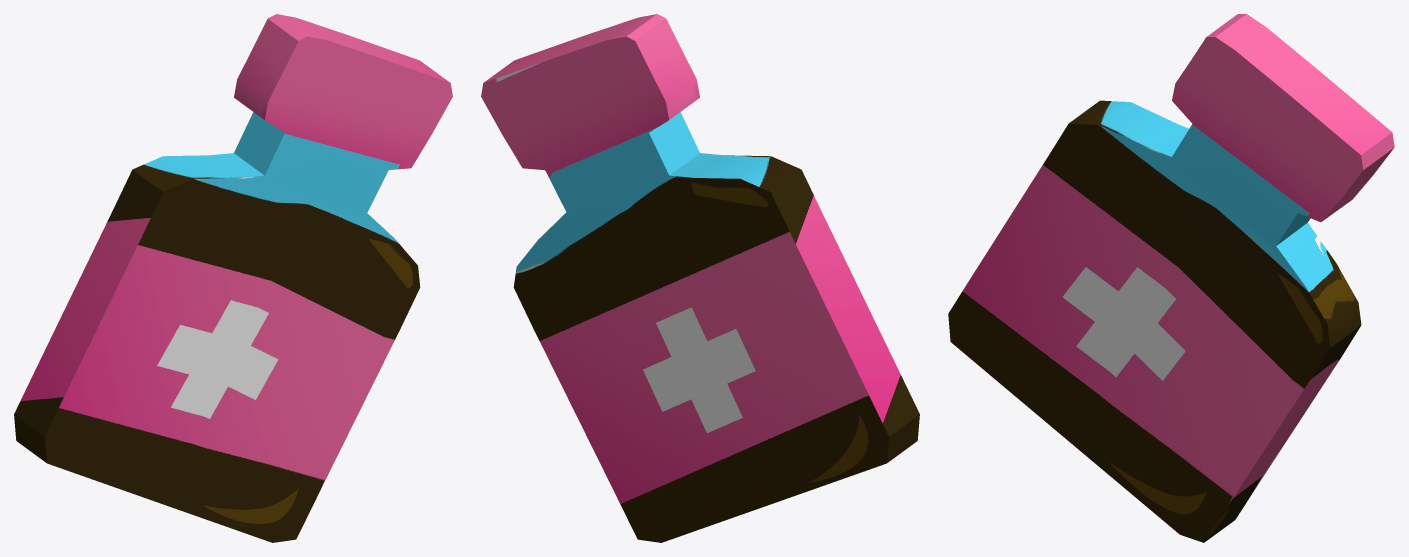
The model's file is Medicine Bottle.fbx.
3 renders of one model, left to right at view 1: azimuth 30°, elevation 25°; view 2: azimuth 150°, elevation 25°; view 3: azimuth 330°, elevation 25°, orthographic.
Parts seen in each view (by area): view 1: polySurface1; view 2: polySurface1; view 3: polySurface1.
Part boxes in pixels (bbox=[...]): polySurface1: bbox=[14, 14, 452, 542]; polySurface1: bbox=[481, 14, 919, 542]; polySurface1: bbox=[948, 14, 1394, 542].
Bounding box in the file's own units: 25.64 × 30.03 × 3.42.
Materials: 1 (1 with a texture image).
